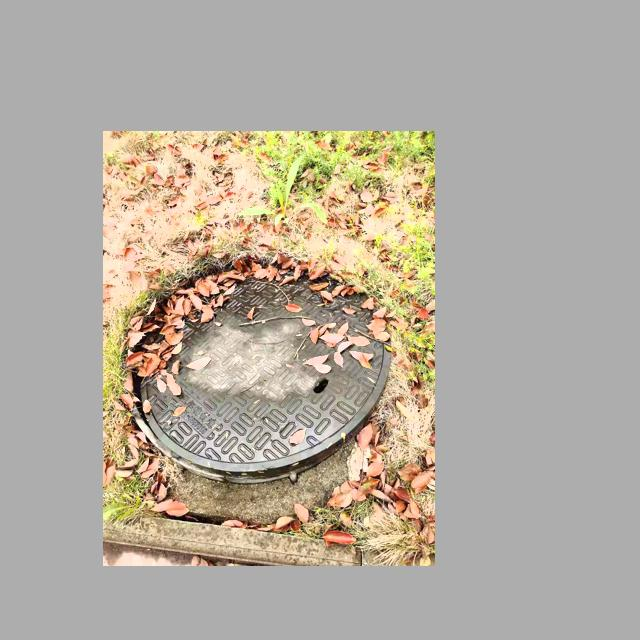uncovered: (124, 258, 390, 483)
